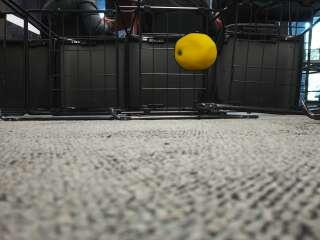lemon: (174, 33, 216, 70)
